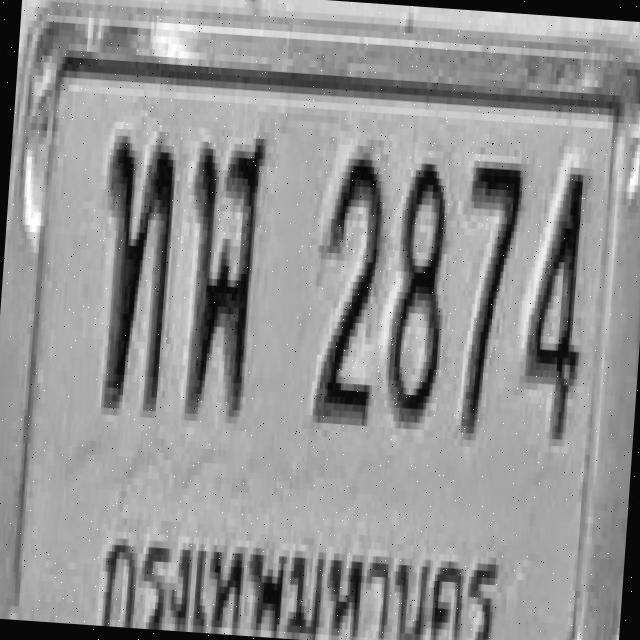2: (312, 144, 388, 426)
32ThorThaHan: (92, 132, 178, 414)
4: (518, 164, 592, 440)
51LorChula: (178, 127, 266, 417)
7: (452, 156, 524, 438)
8: (383, 156, 453, 424)
Bangkok: (86, 494, 509, 640)
